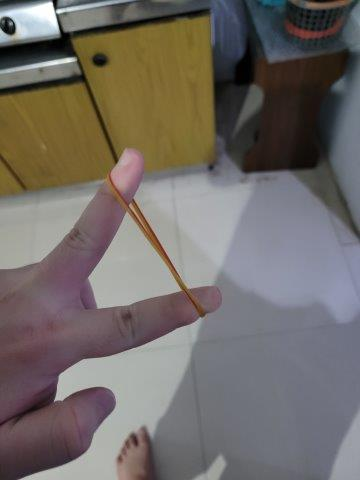karet: (106, 170, 206, 321)
